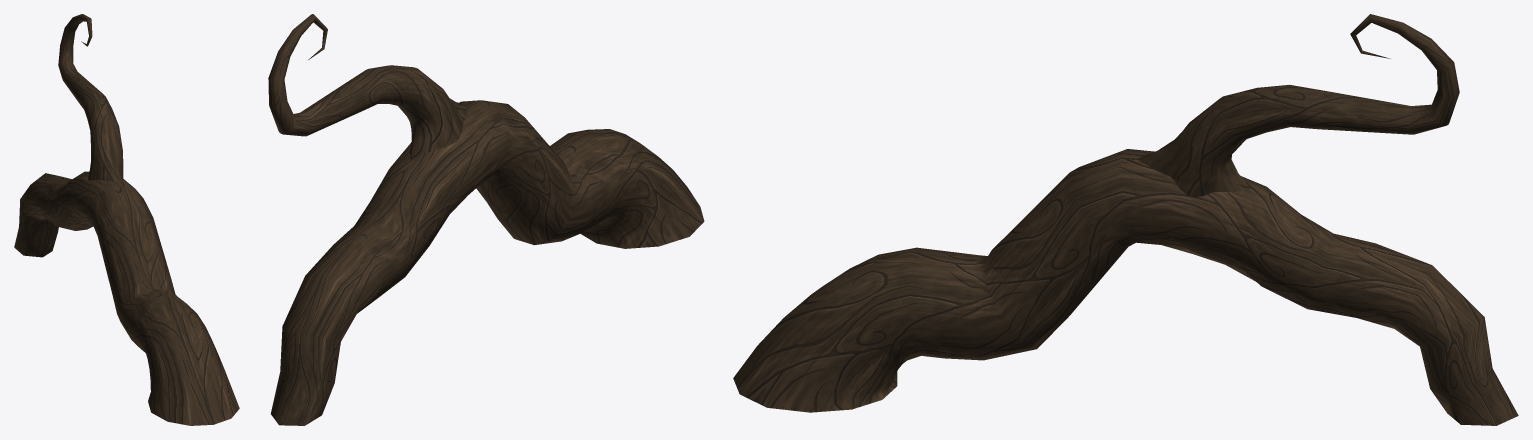
Rendered from rootGreen3.fbx.
3 renders of one model, left to right at view 1: azimuth 30°, elevation 25°; view 2: azimuth 150°, elevation 25°; view 3: azimuth 270°, elevation 25°, orthographic. The views are drawn at different scales.
Parts seen in each view (by area): view 1: rootGreen3; view 2: rootGreen3; view 3: rootGreen3.
Boxes of the visible parts, x1,y1,x2,y2 form: rootGreen3: (14, 14, 239, 425); rootGreen3: (268, 14, 704, 425); rootGreen3: (733, 14, 1518, 425).
Bounding box in the file's own units: 366 × 803 × 1367.
